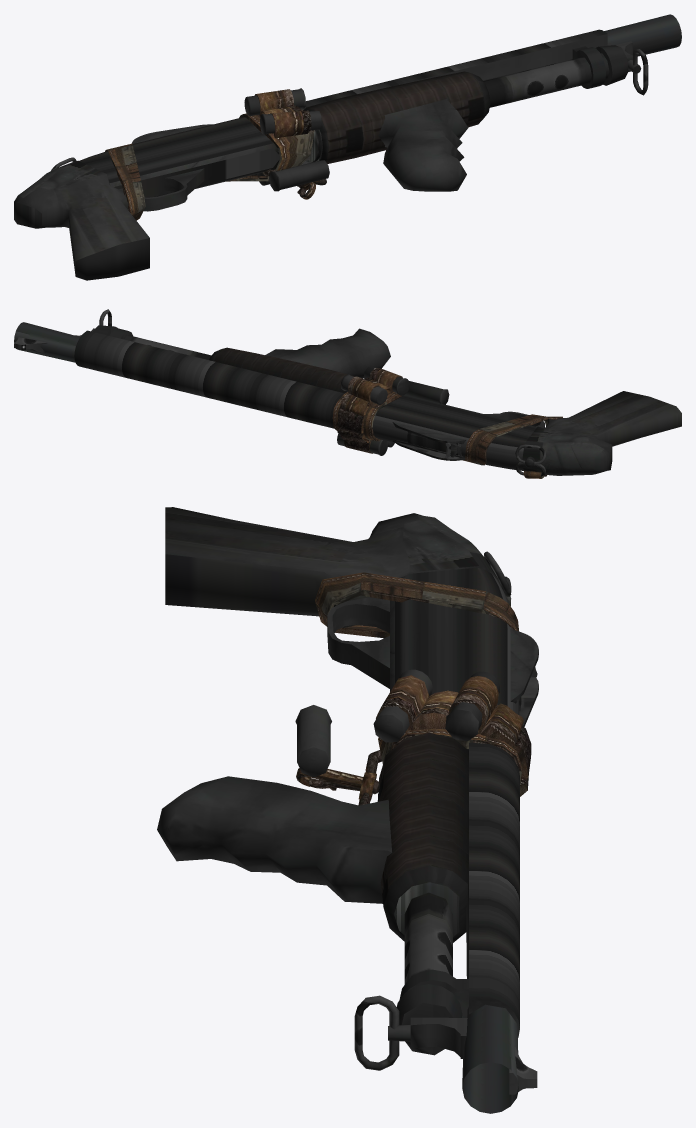
File: t5_weapon_ithaca_viewmodel.glb
3 views of the same model, one above another, from view 1: azimuth 30°, elevation 25°; view 2: azimuth 150°, elevation 25°; view 3: azimuth 270°, elevation 25° (orthographic). The views are drawn at different scales.
Visible parts, largest first — view 1: t5_weapon_ithaca_viewmodel; view 2: t5_weapon_ithaca_viewmodel; view 3: t5_weapon_ithaca_viewmodel.
Part boxes in pixels (box(x1,y1,x2,y2)): t5_weapon_ithaca_viewmodel: box(14, 14, 681, 280); t5_weapon_ithaca_viewmodel: box(14, 309, 681, 478); t5_weapon_ithaca_viewmodel: box(157, 507, 538, 1113).
Bounding box in the file's own units: 0.7204 × 0.0808 × 0.2049.
Materials: 3 (3 with a texture image).
